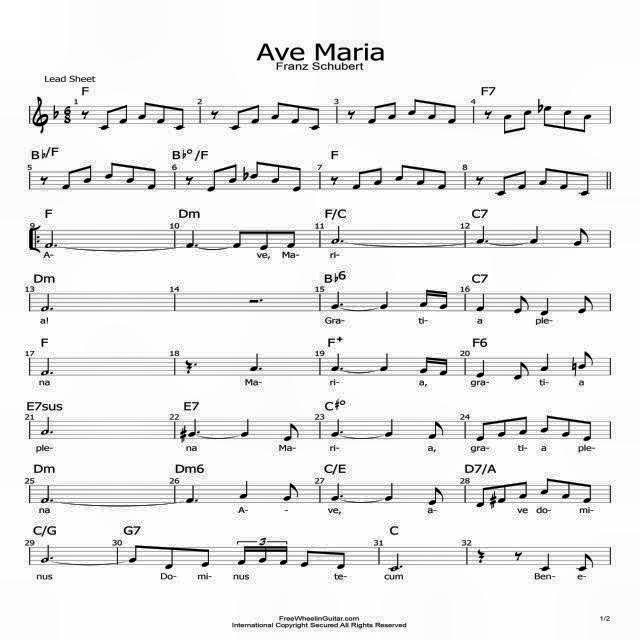Bemol: (536, 97, 544, 115), (53, 104, 59, 120), (182, 148, 186, 160)
Diez: (489, 490, 497, 510), (178, 426, 188, 442)
Eighth-note: (513, 108, 533, 134), (572, 170, 590, 198), (287, 164, 305, 192), (259, 229, 281, 251), (164, 546, 184, 570), (300, 548, 324, 568), (574, 480, 594, 504), (499, 112, 518, 136), (474, 420, 494, 442), (576, 552, 596, 574), (543, 105, 559, 131), (495, 172, 513, 195), (156, 104, 176, 124), (350, 170, 370, 190), (576, 294, 596, 314), (512, 294, 532, 314), (280, 422, 300, 442), (326, 550, 346, 570), (540, 414, 560, 434), (127, 544, 149, 562), (100, 107, 116, 131), (230, 108, 246, 132), (366, 102, 382, 126), (562, 108, 578, 132), (407, 96, 427, 115), (171, 105, 185, 131), (269, 101, 287, 121), (574, 114, 594, 132), (232, 230, 252, 248), (573, 226, 591, 246), (513, 361, 531, 381), (282, 482, 300, 502), (427, 420, 445, 440), (561, 418, 579, 438), (540, 477, 560, 495), (560, 481, 580, 499), (432, 169, 448, 191), (62, 169, 78, 191), (196, 547, 212, 569), (474, 486, 490, 508), (246, 104, 262, 125), (269, 162, 283, 186), (208, 168, 222, 192), (426, 102, 444, 120), (394, 164, 412, 182), (137, 100, 153, 120), (554, 172, 570, 192), (250, 160, 266, 180), (222, 164, 238, 184), (282, 230, 298, 250), (578, 350, 594, 370), (498, 418, 514, 438), (514, 416, 530, 436), (428, 486, 444, 506), (308, 106, 320, 130), (538, 168, 554, 186), (368, 168, 384, 186), (105, 161, 121, 179), (580, 418, 592, 442), (290, 104, 304, 124), (384, 101, 398, 121), (80, 164, 94, 184), (516, 480, 530, 500), (446, 102, 458, 125), (125, 162, 137, 185), (146, 167, 158, 190), (416, 165, 428, 187), (118, 104, 130, 125), (515, 170, 527, 190), (498, 484, 510, 504)
Eighth-rest: (184, 175, 196, 188), (482, 109, 493, 121), (39, 174, 50, 186), (346, 110, 356, 122), (474, 175, 486, 185), (328, 175, 340, 185), (209, 110, 219, 120), (514, 550, 522, 562), (82, 110, 90, 118)
Half-note: (39, 292, 51, 312), (330, 224, 342, 244), (39, 544, 51, 564), (40, 356, 51, 376), (40, 416, 51, 436), (44, 230, 54, 250), (389, 552, 399, 572), (40, 485, 50, 503)
Half-rest: (246, 299, 260, 305)
Quarter-note: (475, 358, 487, 379), (184, 230, 196, 250), (475, 292, 487, 312), (378, 290, 390, 310), (240, 418, 252, 438), (540, 352, 552, 372), (540, 552, 552, 572), (238, 480, 250, 500), (382, 418, 393, 438), (474, 226, 486, 244), (330, 292, 342, 310), (249, 352, 259, 372), (331, 418, 341, 438), (331, 482, 341, 502), (188, 418, 198, 438), (529, 224, 539, 244), (540, 296, 550, 316), (379, 352, 389, 372), (383, 482, 393, 502), (330, 353, 340, 371), (186, 484, 194, 504)
Quarter-rest: (183, 358, 193, 376), (477, 549, 488, 565)
Sixteenth-note: (235, 545, 258, 567), (274, 545, 290, 567), (418, 288, 434, 308), (418, 355, 434, 373), (254, 545, 270, 563), (436, 289, 448, 311), (438, 357, 450, 377)
Treble-clef: (32, 96, 52, 136)
